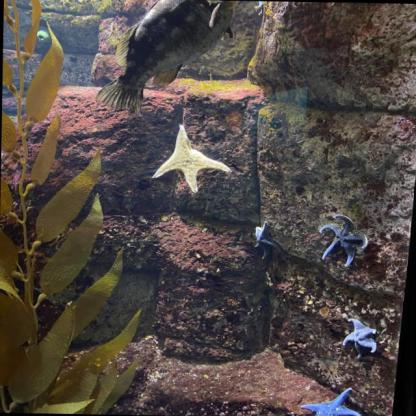fish: (93, 0, 239, 115)
starfish: (150, 124, 230, 192), (316, 213, 368, 267), (302, 387, 366, 415), (341, 318, 379, 357), (251, 222, 280, 261)
